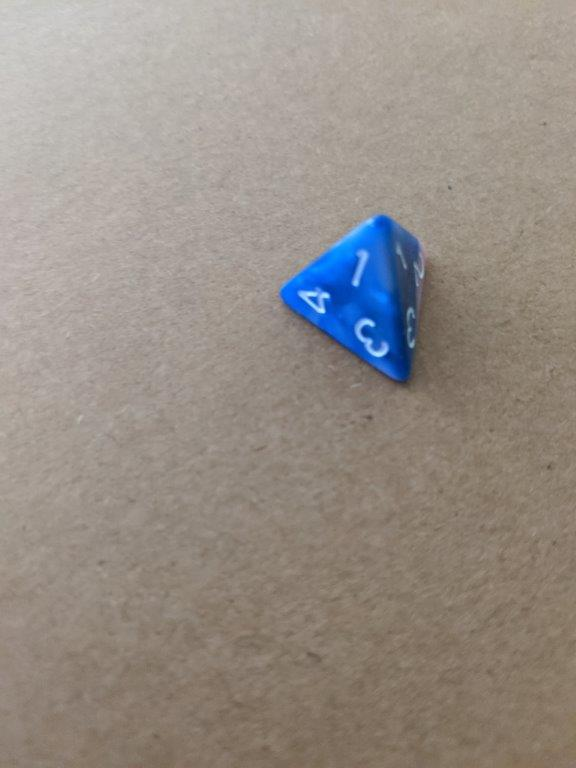d4-1: (272, 209, 427, 391)
